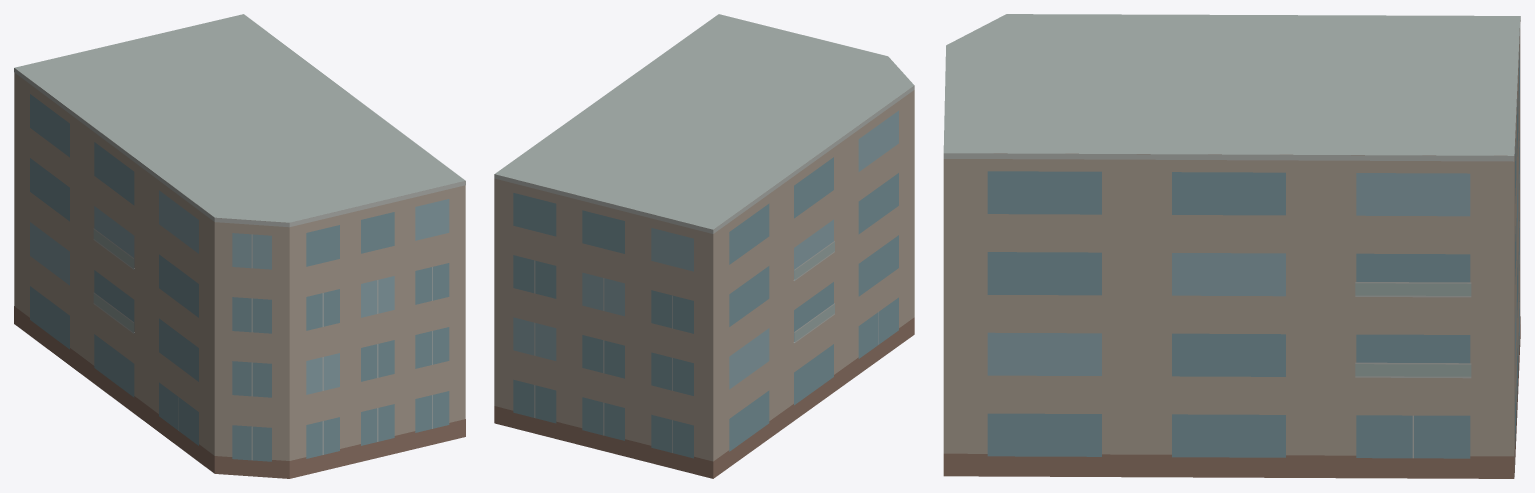
Rendered from survey-upis-33024883.glb.
3 renders of one model, left to right at view 1: azimuth 30°, elevation 25°; view 2: azimuth 150°, elevation 25°; view 3: azimuth 270°, elevation 25°, orthographic. The views are drawn at different scales.
Visible parts, largest first — view 1: survey-upis-33024883.tmp; view 2: survey-upis-33024883.tmp; view 3: survey-upis-33024883.tmp.
Boxes of the visible parts, x1,y1,x2,y2 form: survey-upis-33024883.tmp: (14,14,465,478); survey-upis-33024883.tmp: (494,14,914,478); survey-upis-33024883.tmp: (943,14,1520,478).
Size of the model in its own units: 13.11 by 13.9 by 22.5.
